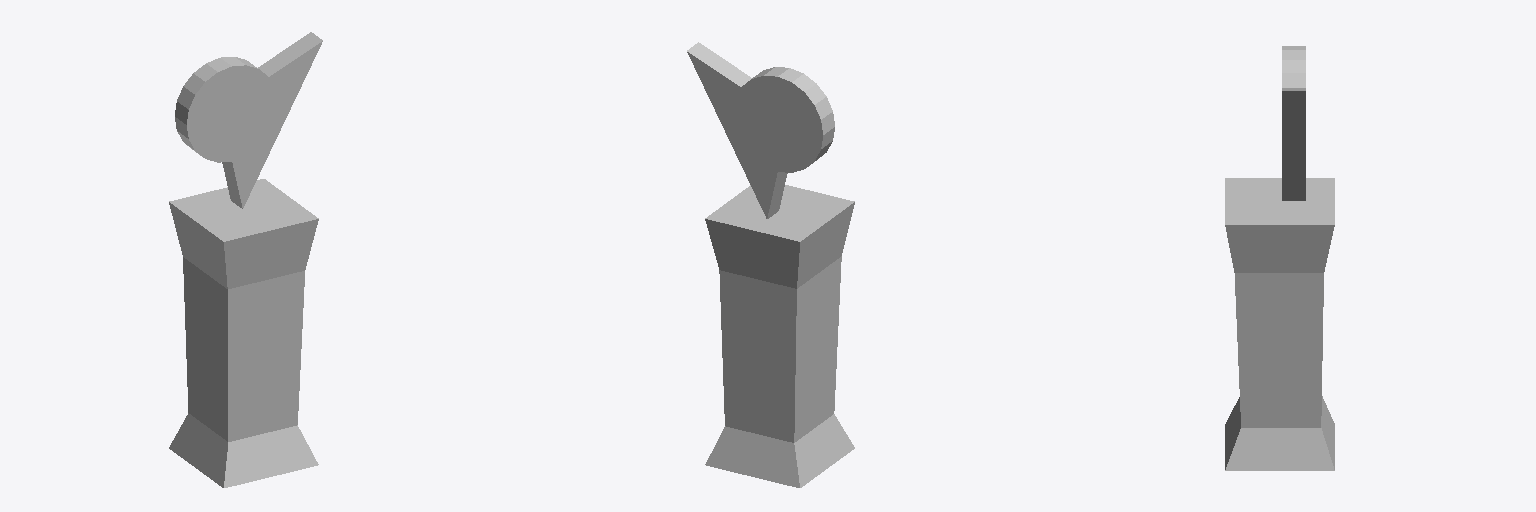
File: Gym Statue.obj
3 views of the same model, side by side, from view 1: azimuth 30°, elevation 25°; view 2: azimuth 150°, elevation 25°; view 3: azimuth 270°, elevation 25° (orthographic).
Visible parts, largest first — view 1: polySurface49_polySurface49_gymnosekizou.png; view 2: polySurface49_polySurface49_gymnosekizou.png; view 3: polySurface49_polySurface49_gymnosekizou.png.
Boxes of the visible parts, box(x1,y1,x2,y2) form: polySurface49_polySurface49_gymnosekizou.png: box(169, 32, 322, 487); polySurface49_polySurface49_gymnosekizou.png: box(687, 42, 854, 487); polySurface49_polySurface49_gymnosekizou.png: box(1225, 46, 1334, 470).
Bounding box in the file's own units: 0.9833 × 2.72 × 0.6854.